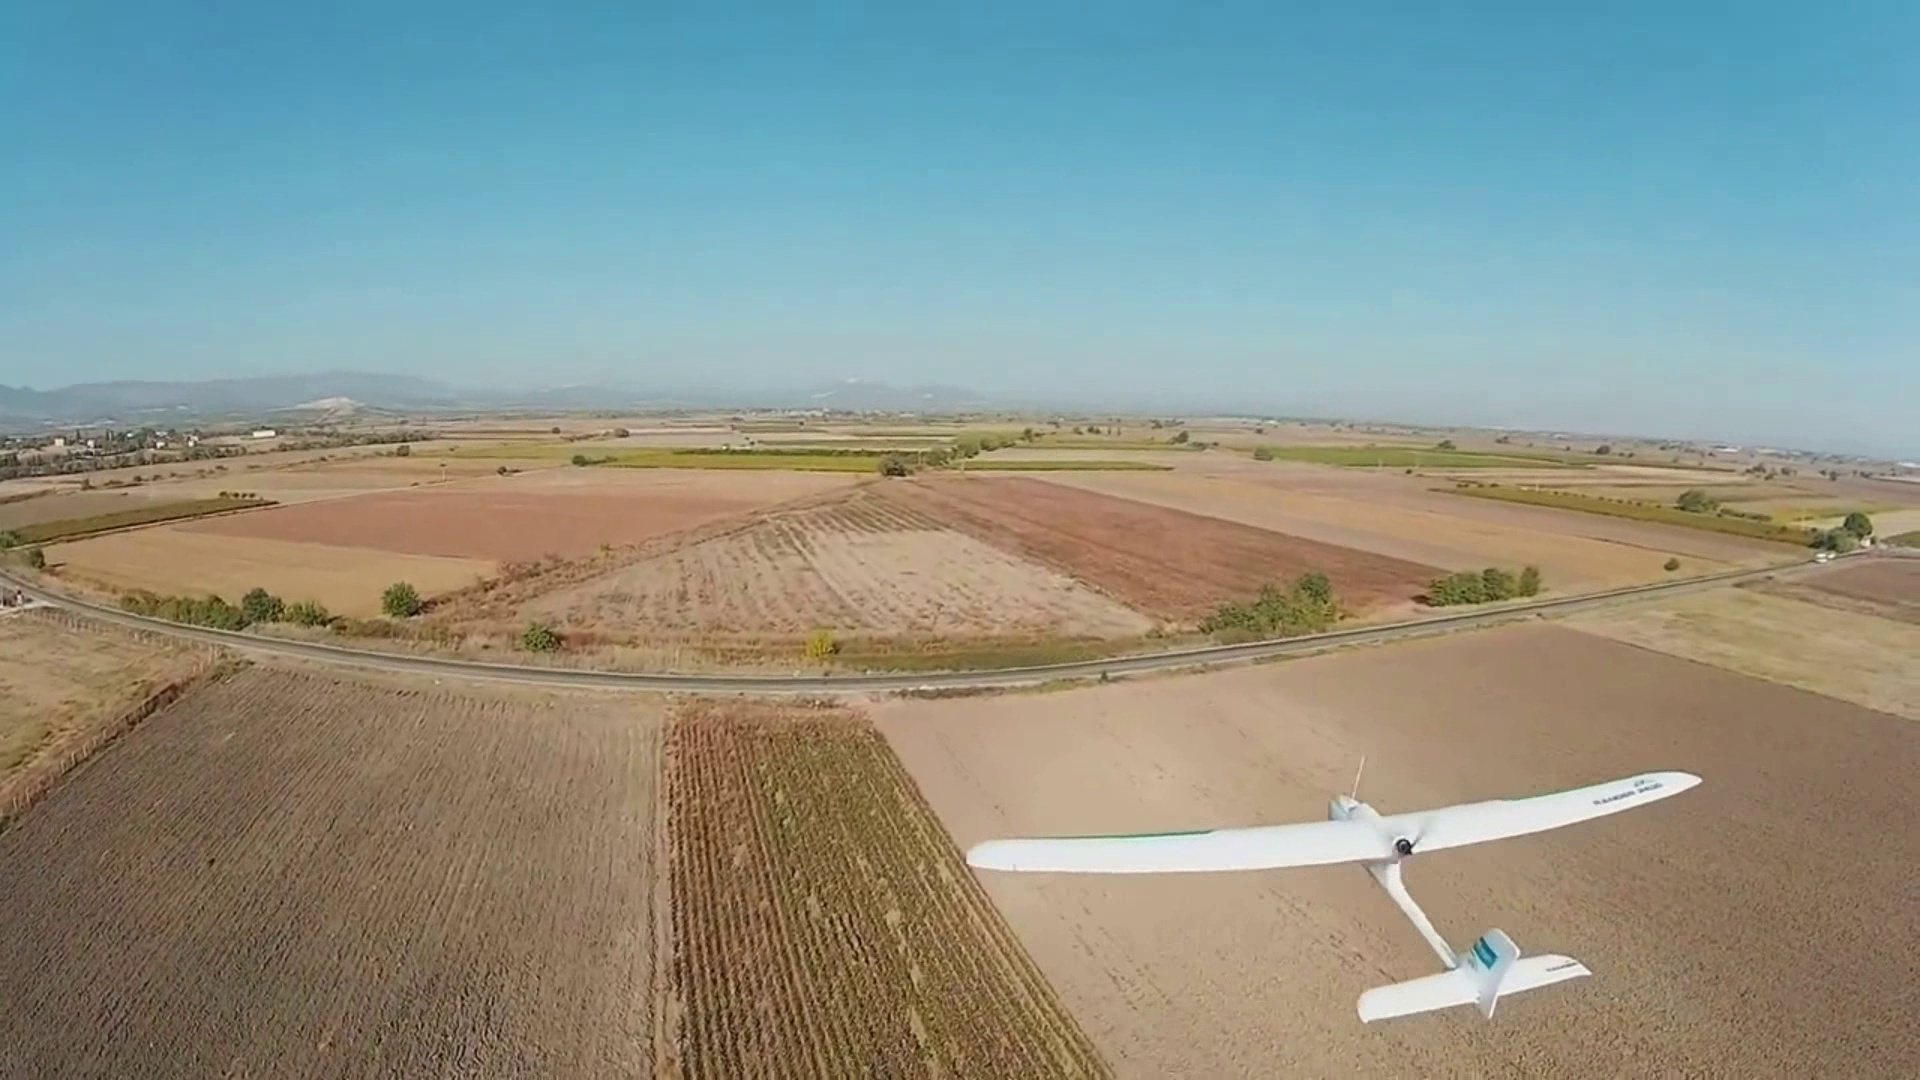airplane: (970, 769, 1705, 1024)
